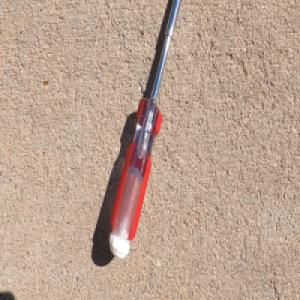Screwdriver: (107, 0, 182, 260)
